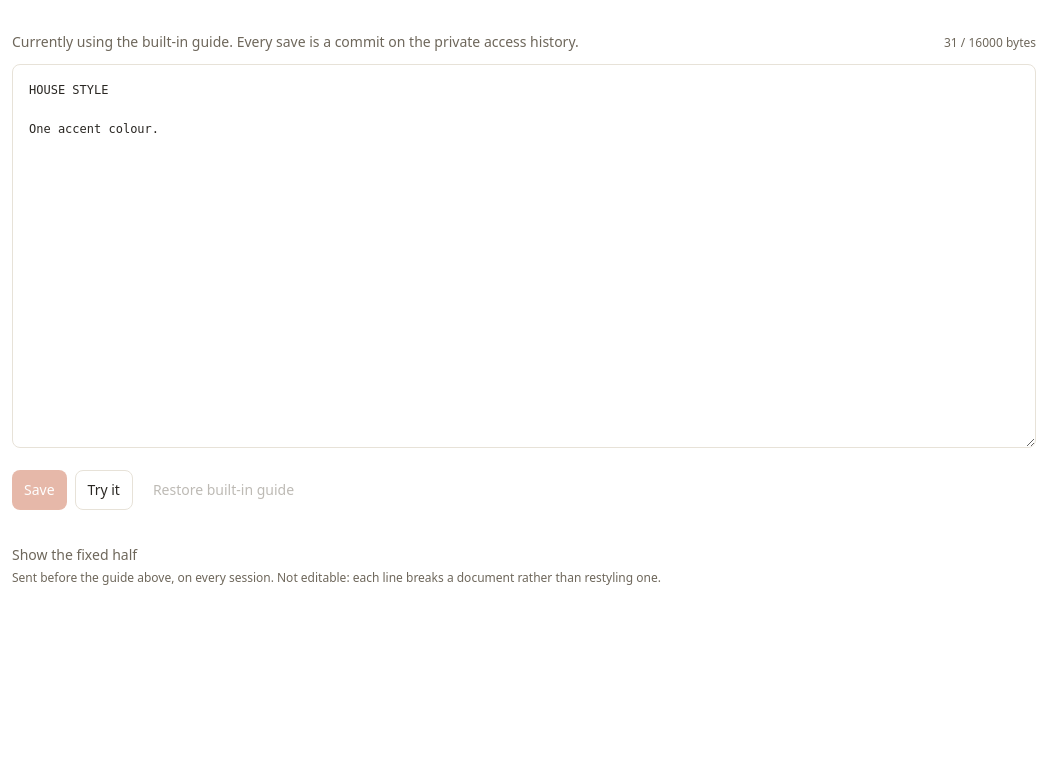
it: DesignGuideAdmin › names the offending line when a save is refused
Type " x" into the text box named "Design guide" at (524, 256), box [12, 64, 1036, 448]
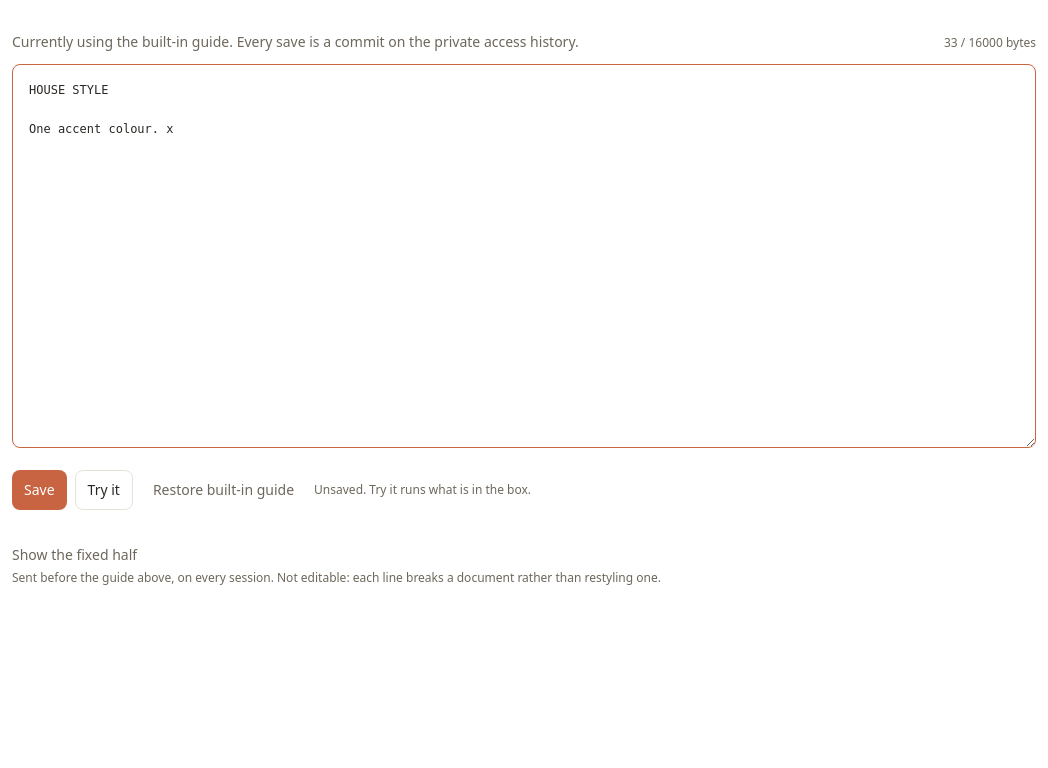
Click the button "Save" at (39, 490), box [12, 470, 67, 510]
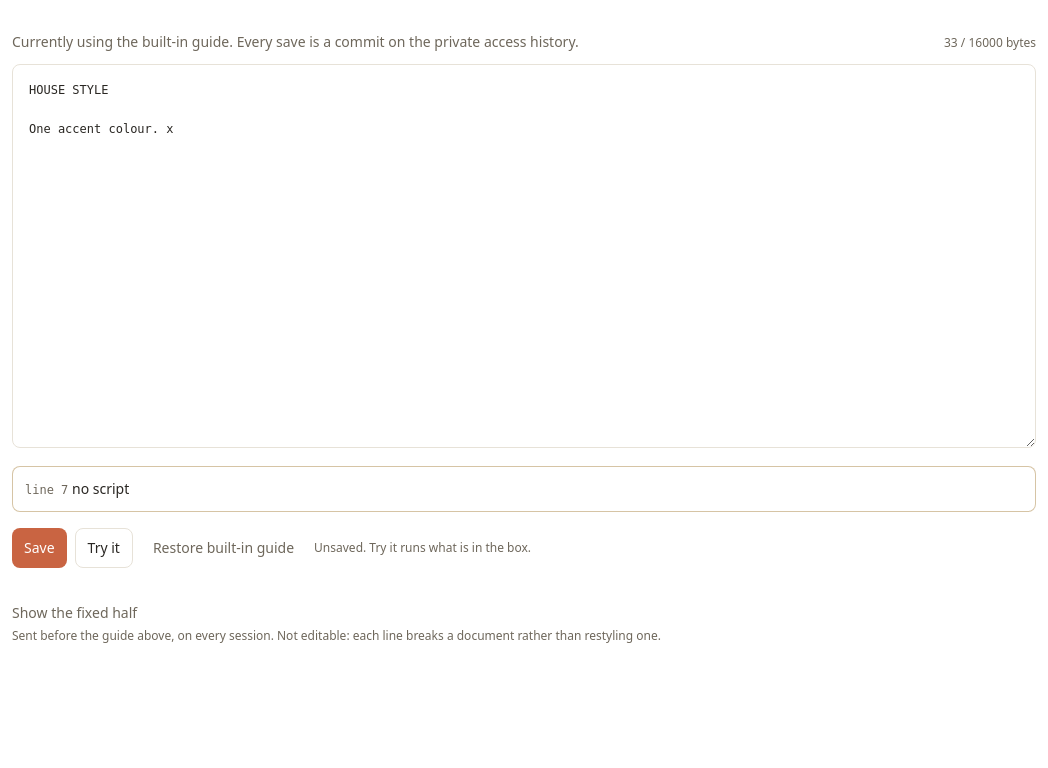
Expected: the message shows "line 7", [25, 483, 68, 497]
Expected: the message shows "no script", [72, 479, 129, 498]
